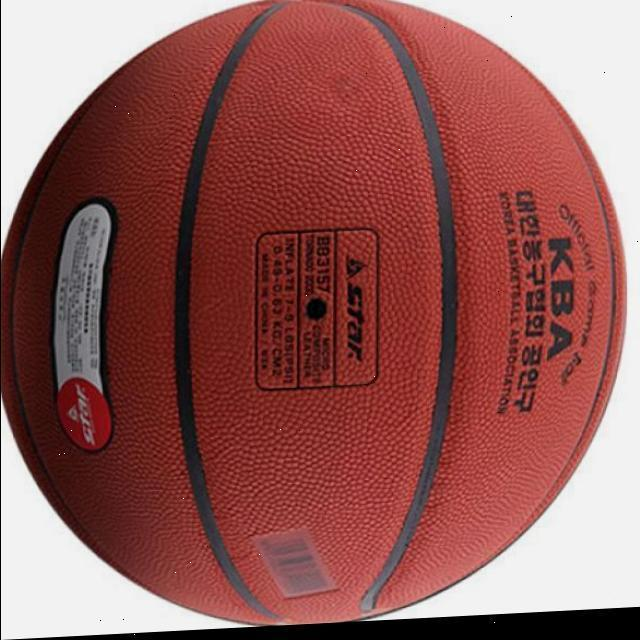Basketball: (0, 1, 632, 629)
